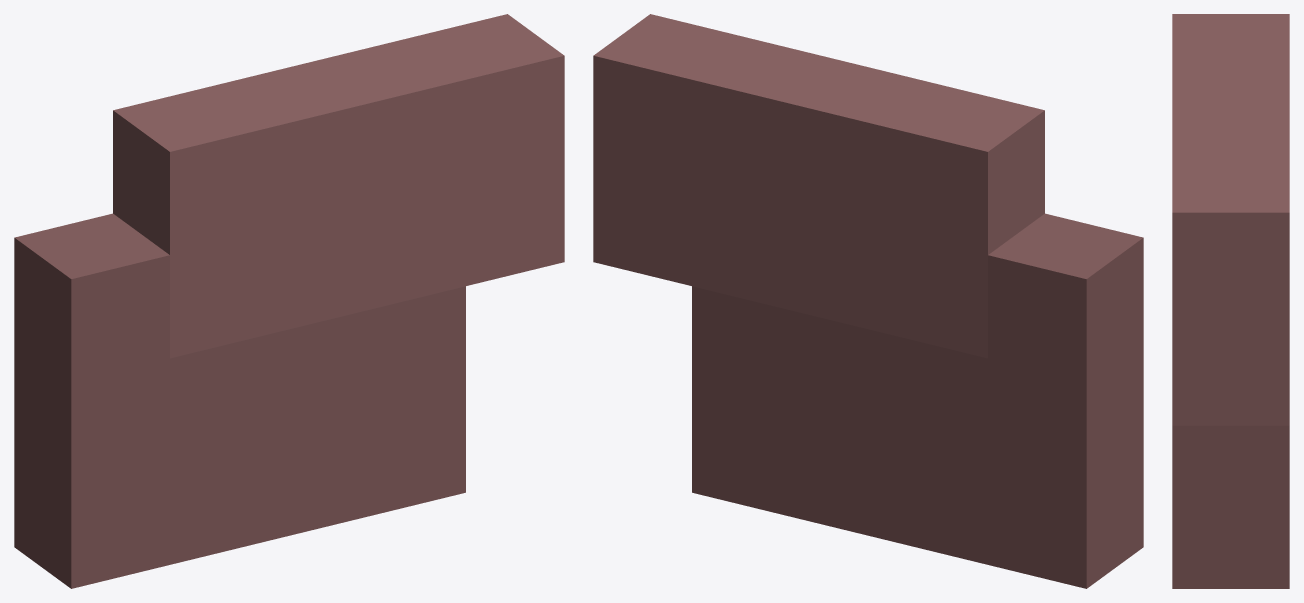
The model's file is sangre_seca_01.glb.
The picture shows the model from 3 angles, left to right: view 1: azimuth 30°, elevation 25°; view 2: azimuth 150°, elevation 25°; view 3: azimuth 270°, elevation 25°; orthographic projection. The views are drawn at different scales.
Visible parts, largest first — view 1: sangre_seca; view 2: sangre_seca; view 3: sangre_seca.
Part boxes in pixels (<box>): sangre_seca: <box>14,14,564,588</box>; sangre_seca: <box>593,14,1143,588</box>; sangre_seca: <box>1172,14,1289,588</box>.
Bounding box in the file's own units: 0.625 × 0.5 × 0.125.
